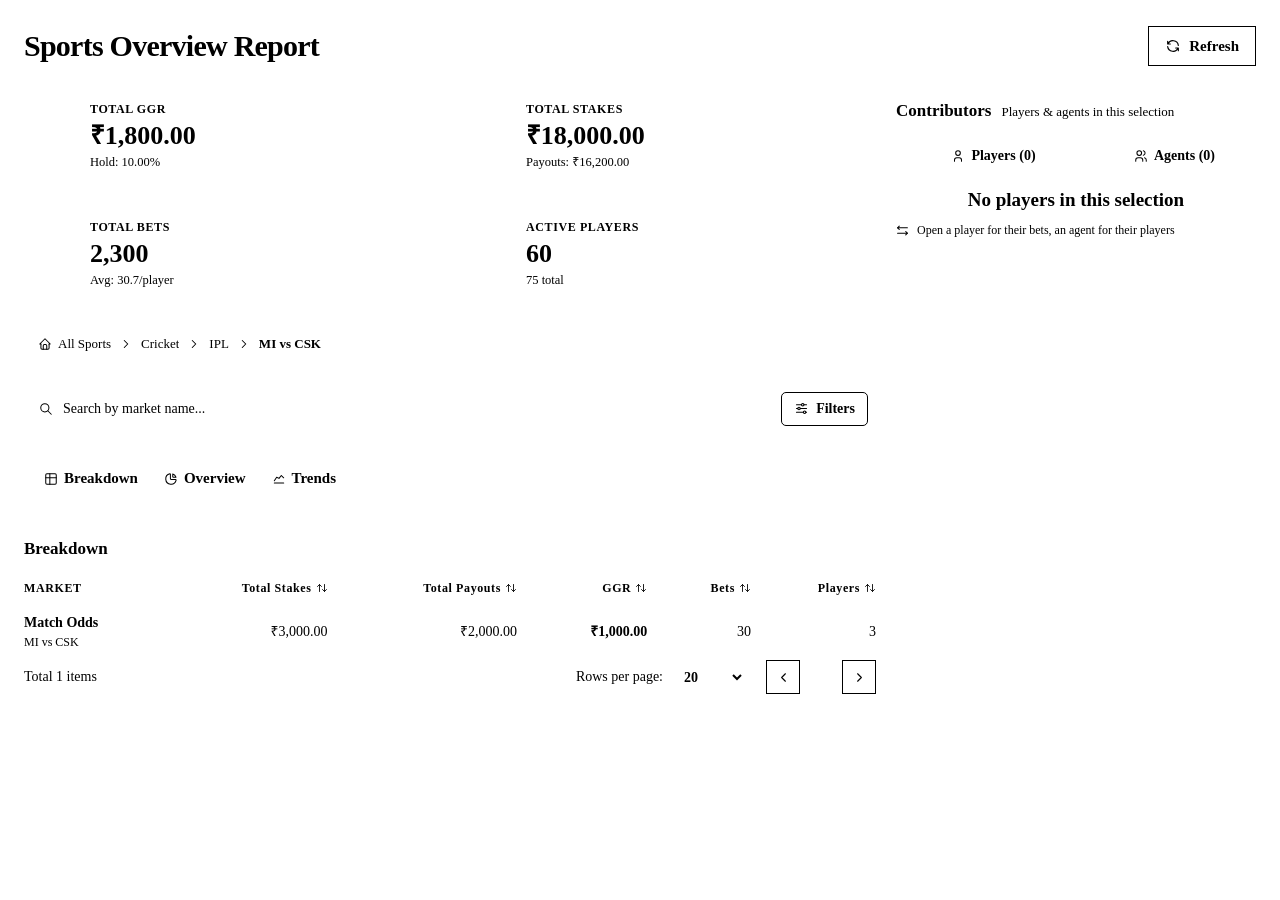
Scenario: SportsOverviewReport drill-down › a crumb pops back to its level and All Sports returns to the root
This screenshot has width=1280, height=900.
Expected: the text "Match Odds" is shown, [24,615,98,630]
Click the button "IPL": [219, 344] box [205,330,233,358]
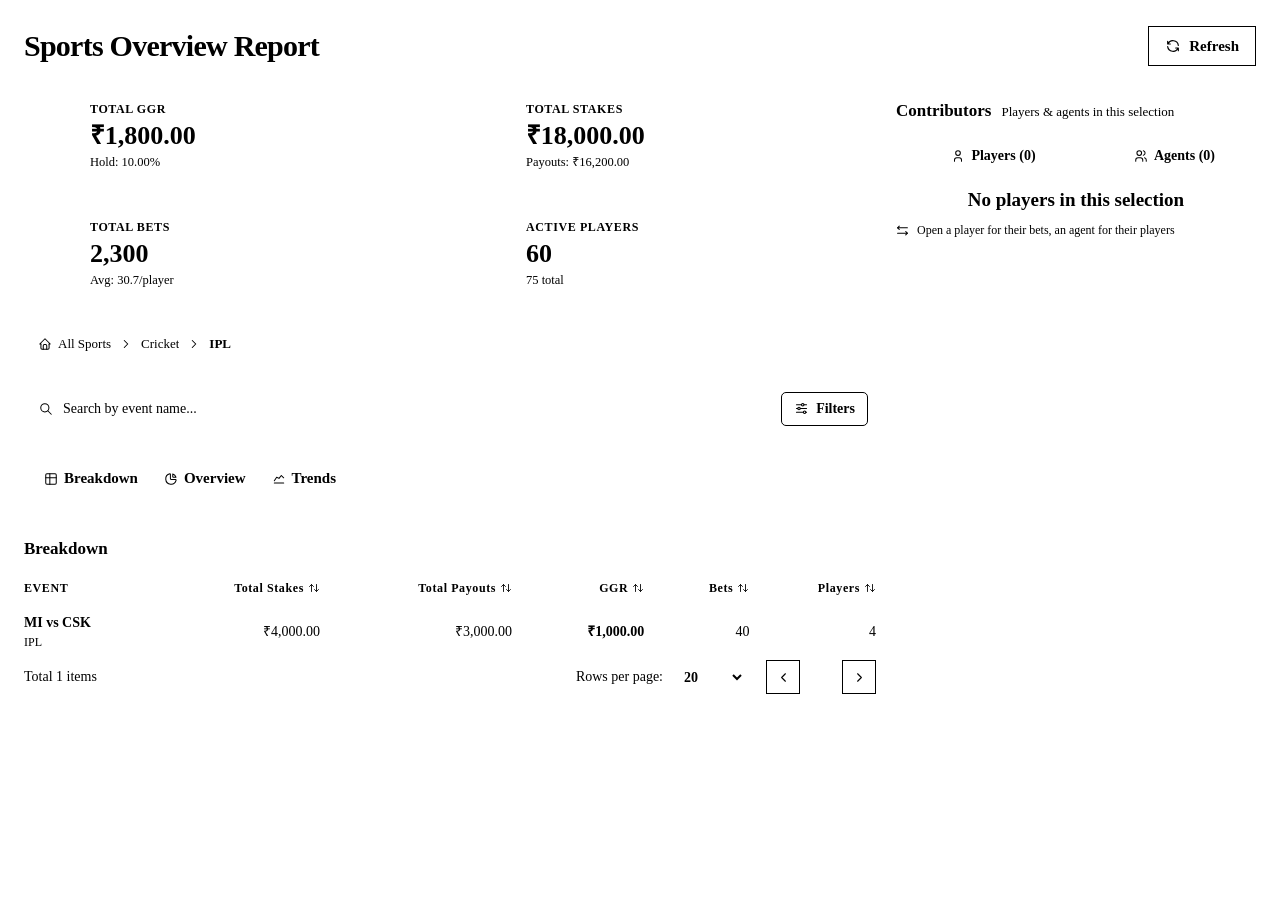
Now the text "MI vs CSK" is shown, box [24,615,91,630]
Click the button "All Sports": [75, 344] box [34,330,115,358]
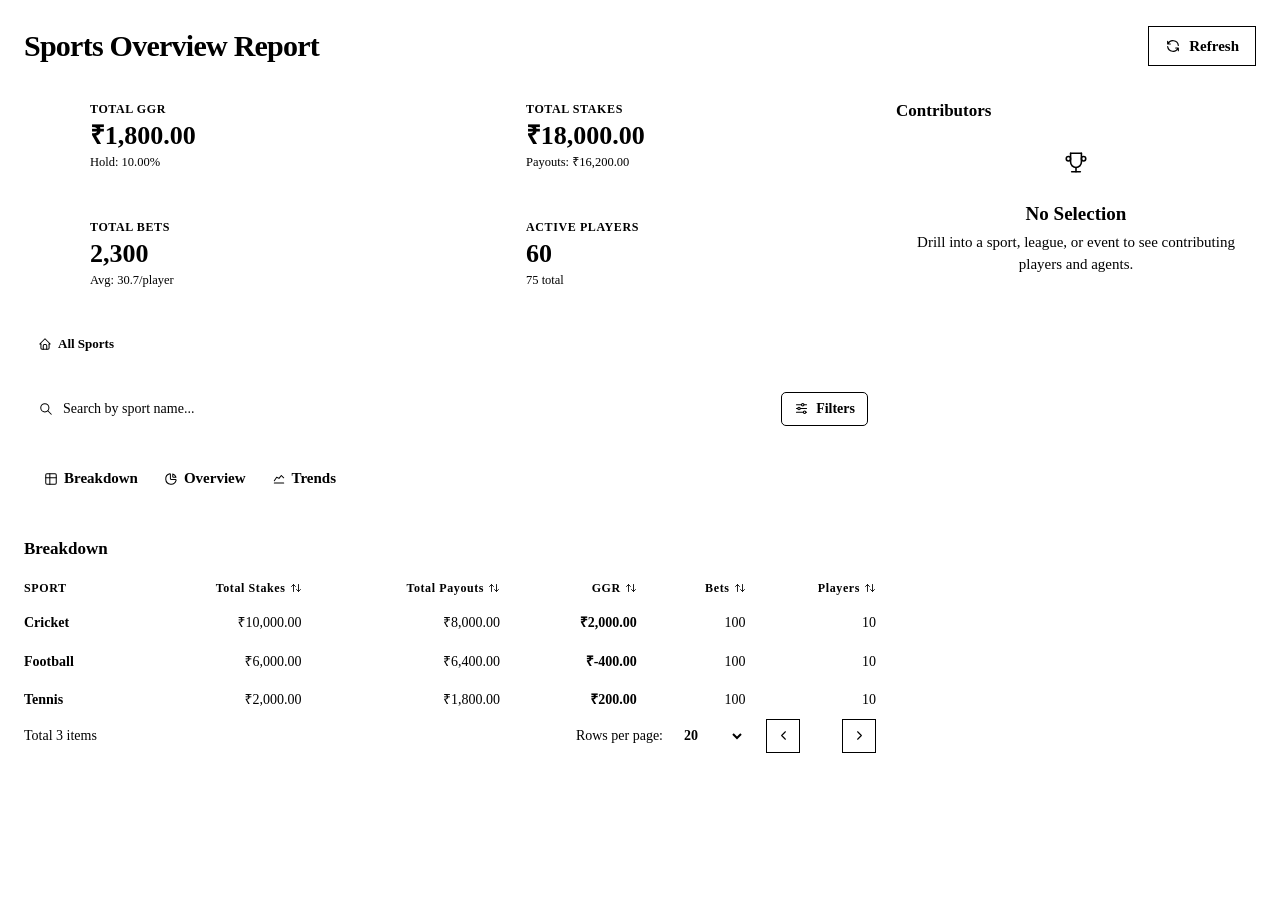
Now the text "Football" is shown, box [24,654,74,668]
